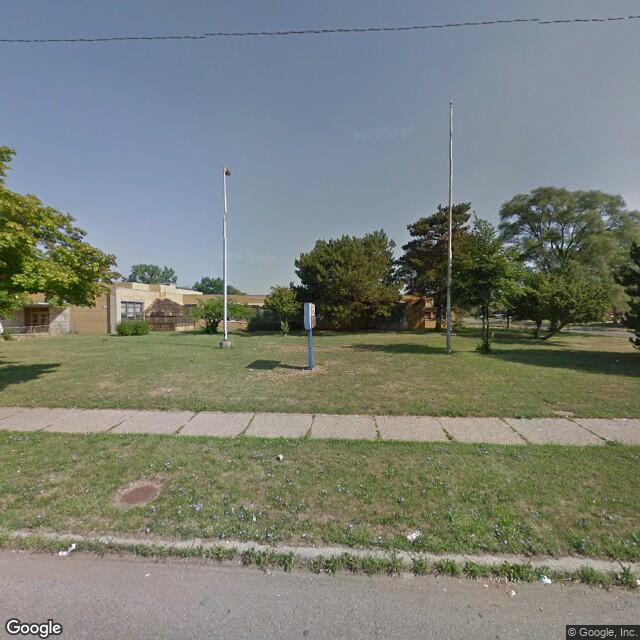litter: (398, 523, 429, 543), (48, 539, 85, 555), (534, 571, 556, 585), (501, 585, 520, 600), (273, 448, 289, 463)
